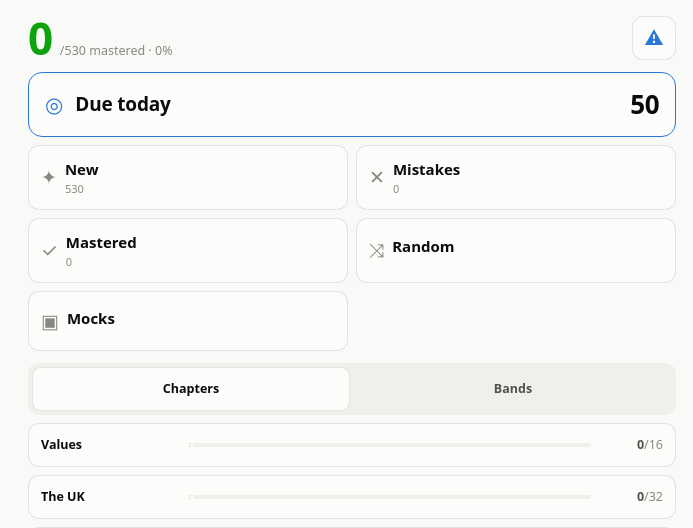
Test: the home screen › moves a missed fact into the mistakes section
Expected: the button "◎ Due today 50" is shown, top-left (28, 72), bottom-right (676, 137)
Click the button "Values 0/16" at (352, 445), box top-left (28, 423), bottom-right (676, 467)
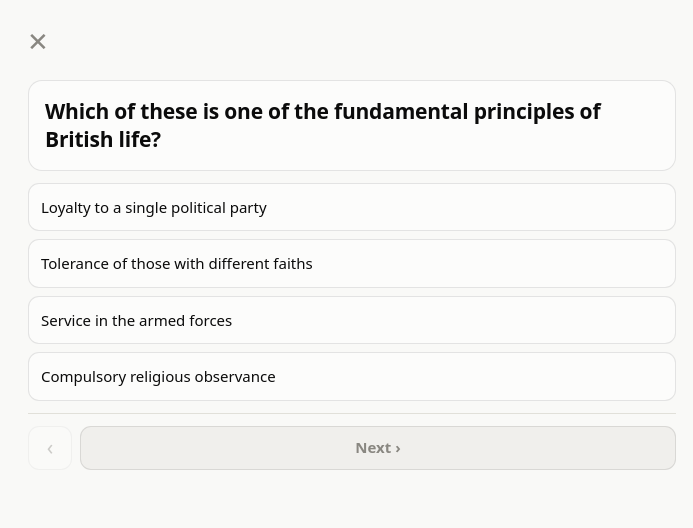
Now the heading is shown, box top-left (45, 97), bottom-right (659, 154)
Click the button "Loyalty to a single political party" at (154, 207), box top-left (28, 183), bottom-right (676, 231)
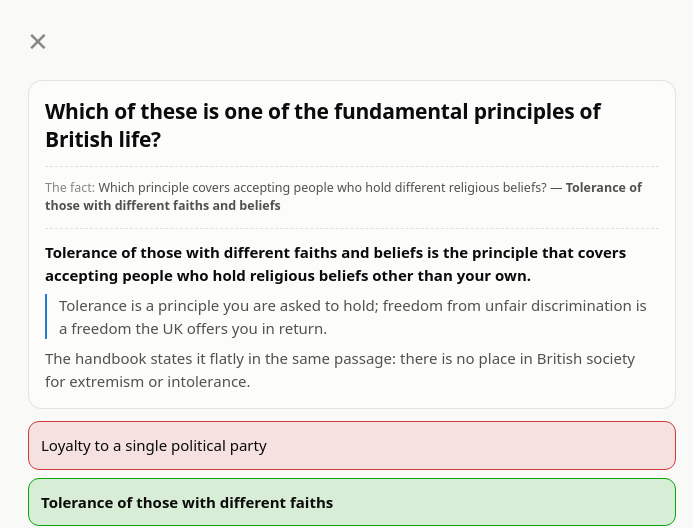
Click the button named "Close" at (38, 42), box top-left (16, 20), bottom-right (60, 64)
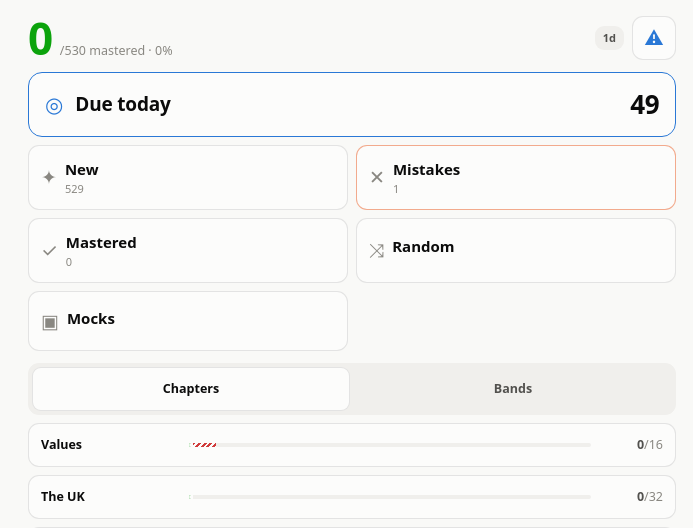
Now the text "1" is shown, box top-left (393, 180), bottom-right (399, 196)
